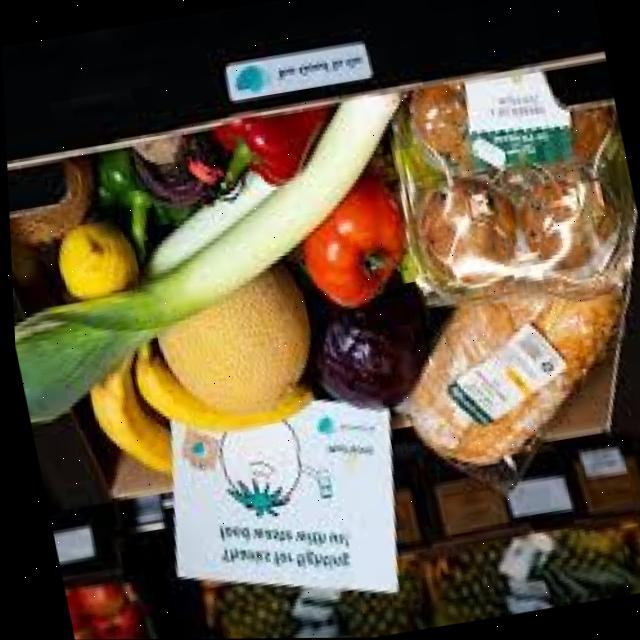Wet: (389, 279, 634, 493), (152, 285, 331, 414), (297, 192, 414, 311), (145, 376, 317, 442), (87, 362, 171, 497), (49, 223, 135, 307)
